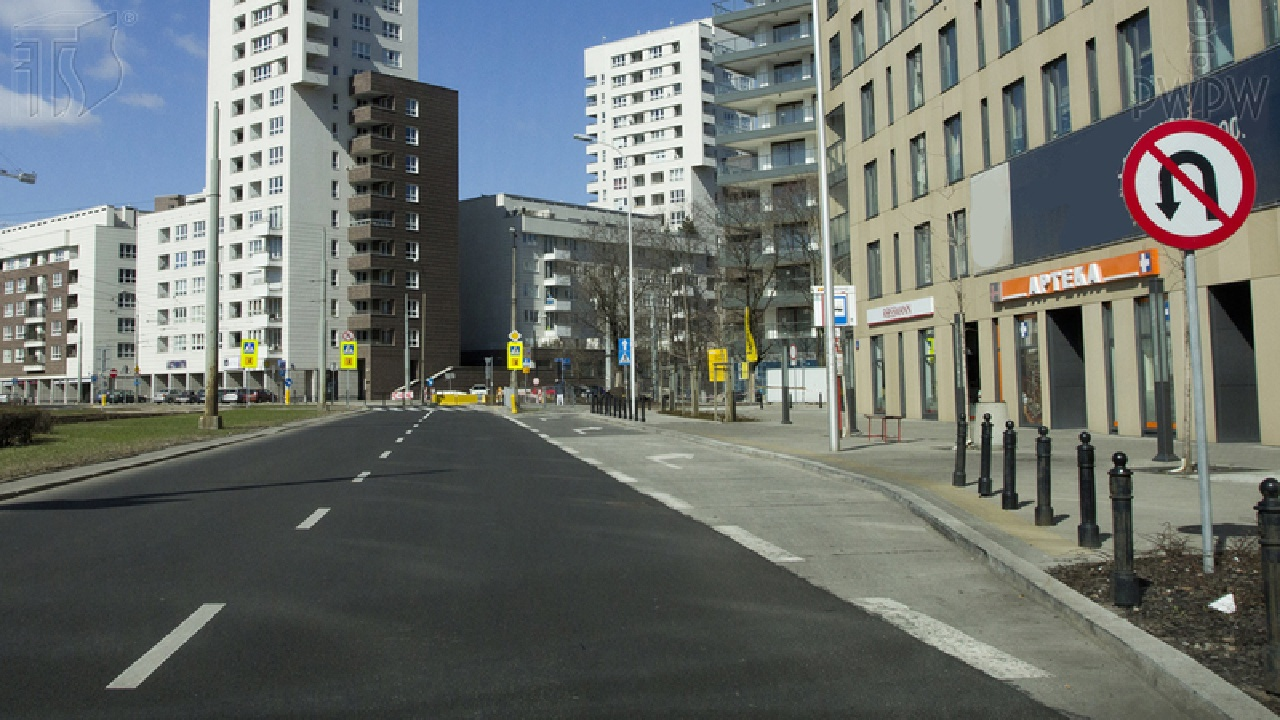B23: (1120, 116, 1259, 252)
